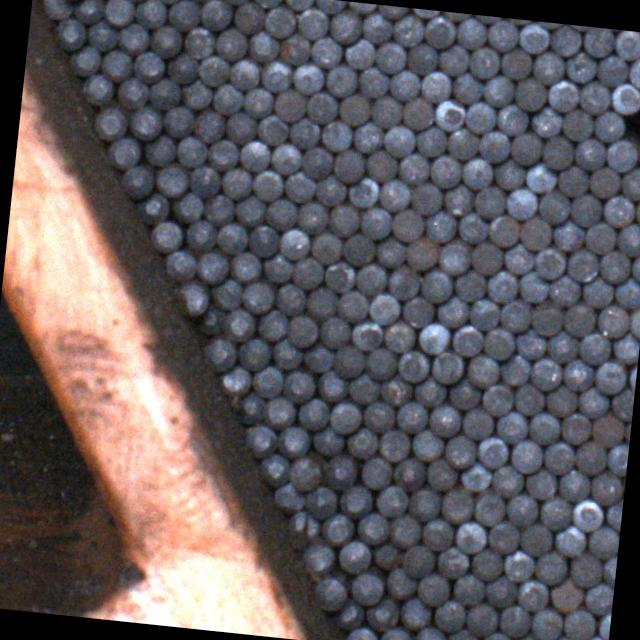tool: (173, 277, 211, 318), (437, 485, 475, 524), (191, 300, 228, 340), (153, 160, 190, 200), (279, 366, 317, 404), (384, 262, 422, 300), (162, 48, 200, 86), (558, 301, 598, 337), (430, 596, 467, 634), (384, 511, 422, 548), (471, 489, 508, 527), (575, 328, 612, 366), (413, 572, 452, 608), (238, 422, 277, 458), (225, 248, 264, 284), (145, 218, 184, 254), (567, 190, 604, 227), (396, 596, 434, 632), (482, 571, 518, 609), (546, 576, 584, 612), (420, 515, 456, 553), (322, 453, 358, 491), (200, 336, 238, 372), (592, 357, 628, 395), (382, 318, 418, 356), (192, 246, 228, 284), (52, 14, 88, 52), (330, 144, 366, 182), (568, 135, 606, 171), (346, 572, 385, 607), (307, 423, 346, 458), (462, 600, 499, 636), (434, 544, 470, 581), (353, 510, 389, 547), (528, 356, 565, 392), (134, 188, 170, 225), (198, 190, 234, 227), (92, 105, 128, 142), (271, 85, 307, 122), (294, 4, 330, 41), (390, 10, 426, 47), (558, 105, 594, 142), (310, 576, 348, 611), (315, 366, 350, 404), (244, 222, 279, 260), (327, 6, 362, 44), (363, 594, 399, 630), (568, 552, 604, 588), (302, 484, 338, 520), (490, 462, 526, 498), (508, 438, 544, 474), (426, 402, 462, 438), (589, 412, 625, 448), (446, 374, 482, 410), (478, 381, 514, 417), (544, 382, 580, 418), (576, 384, 612, 420), (528, 300, 564, 336), (352, 260, 388, 296), (418, 267, 454, 303), (308, 228, 344, 264), (564, 246, 600, 282), (550, 216, 586, 252), (118, 162, 154, 198), (472, 182, 508, 218), (363, 146, 399, 182), (428, 152, 464, 188), (160, 103, 196, 139), (382, 123, 418, 159), (476, 128, 512, 164), (323, 62, 359, 98), (212, 25, 248, 61), (422, 12, 458, 48), (536, 188, 572, 224), (526, 102, 562, 138), (513, 76, 549, 112), (588, 469, 623, 506), (375, 427, 412, 462), (267, 336, 304, 371), (299, 338, 336, 373), (410, 179, 445, 216), (444, 125, 479, 162), (530, 49, 565, 86), (233, 388, 267, 426), (328, 398, 362, 436), (350, 316, 384, 354), (496, 46, 534, 80), (560, 49, 598, 83), (399, 543, 435, 578), (406, 485, 441, 521), (504, 492, 540, 527), (288, 456, 324, 491), (495, 352, 531, 387), (512, 324, 547, 360), (542, 328, 578, 363), (466, 296, 502, 331), (484, 268, 519, 304), (436, 240, 472, 275), (469, 240, 504, 276), (598, 248, 633, 284), (231, 192, 267, 227), (218, 164, 253, 200), (178, 76, 214, 111), (146, 22, 181, 58), (246, 29, 282, 64), (306, 33, 342, 68), (538, 134, 573, 170), (591, 108, 626, 144), (451, 520, 488, 554), (516, 522, 553, 556), (389, 457, 426, 491), (521, 466, 558, 500), (214, 362, 251, 396), (377, 373, 414, 407), (207, 276, 244, 310), (65, 42, 102, 76), (547, 22, 584, 56), (497, 604, 532, 639), (274, 423, 309, 458), (572, 440, 607, 475), (333, 344, 368, 379), (364, 345, 399, 380), (395, 348, 430, 383), (334, 288, 369, 323), (213, 220, 248, 255), (293, 199, 328, 234), (106, 135, 141, 170), (313, 172, 348, 207), (269, 140, 304, 175), (299, 144, 334, 179), (396, 149, 431, 184), (450, 572, 486, 606), (300, 539, 334, 575), (501, 548, 535, 584), (551, 524, 587, 558), (336, 483, 372, 517), (372, 484, 408, 518), (442, 432, 476, 468), (474, 434, 510, 468), (262, 394, 296, 430), (494, 409, 530, 443), (526, 410, 560, 446), (346, 372, 382, 406), (465, 352, 499, 388), (220, 308, 256, 342), (286, 312, 320, 348), (415, 322, 451, 356), (304, 284, 338, 320), (366, 292, 402, 326), (400, 294, 436, 328), (434, 294, 470, 328), (451, 268, 487, 302), (515, 268, 549, 304), (546, 273, 582, 307), (580, 274, 616, 308), (276, 225, 310, 261), (340, 232, 376, 266), (404, 236, 438, 272), (358, 204, 392, 240), (390, 206, 424, 242), (518, 214, 552, 250), (78, 72, 114, 106), (250, 166, 284, 202), (378, 176, 412, 212), (140, 132, 176, 166), (204, 138, 240, 172), (236, 138, 272, 172), (126, 105, 162, 139), (193, 107, 227, 143), (224, 110, 258, 146), (349, 119, 385, 153), (144, 76, 180, 110), (98, 48, 134, 82), (196, 54, 232, 88), (356, 64, 390, 100), (448, 70, 484, 104), (404, 40, 440, 74), (262, 4, 298, 38), (600, 194, 636, 228), (576, 79, 610, 115), (516, 20, 550, 56), (560, 607, 597, 640), (328, 598, 366, 630), (515, 578, 550, 612), (368, 538, 402, 573), (533, 550, 568, 584), (320, 513, 354, 548), (485, 520, 520, 554), (586, 524, 620, 559), (257, 451, 291, 486), (296, 396, 330, 431), (558, 412, 593, 446), (429, 350, 464, 384), (318, 314, 352, 349), (450, 323, 485, 357), (240, 279, 274, 314), (273, 281, 308, 315), (290, 256, 325, 290), (422, 209, 457, 243), (487, 214, 522, 248), (346, 174, 380, 209), (442, 181, 476, 216), (460, 155, 494, 190), (337, 92, 372, 126), (401, 95, 435, 130), (227, 57, 261, 92), (482, 73, 516, 108), (373, 40, 408, 74), (555, 164, 590, 198), (581, 580, 614, 616), (270, 481, 306, 514), (410, 428, 446, 461), (410, 374, 446, 407), (340, 36, 376, 69), (491, 157, 527, 190), (586, 166, 622, 199), (382, 566, 416, 600), (336, 538, 370, 572), (538, 496, 572, 530), (358, 456, 392, 490), (556, 468, 590, 502), (394, 400, 428, 434), (562, 358, 596, 392), (254, 308, 288, 342), (481, 326, 515, 360), (498, 298, 532, 332), (162, 248, 196, 282), (322, 258, 356, 292), (374, 234, 408, 268), (533, 246, 567, 280), (262, 196, 296, 230), (326, 202, 360, 236), (454, 210, 488, 244), (187, 164, 221, 198), (256, 112, 290, 146), (114, 74, 148, 108), (369, 94, 403, 128), (432, 98, 466, 132), (258, 58, 292, 92), (388, 68, 422, 102), (418, 70, 452, 104), (84, 18, 118, 52), (180, 25, 214, 59), (436, 41, 470, 75), (232, 0, 266, 34), (508, 130, 542, 164), (604, 138, 638, 172), (529, 607, 564, 640), (541, 441, 576, 474), (460, 407, 495, 440), (512, 383, 547, 416), (596, 304, 629, 339), (468, 548, 504, 580), (286, 510, 322, 542), (568, 498, 604, 530), (456, 460, 492, 492), (361, 400, 397, 432), (250, 362, 282, 398), (164, 0, 201, 31), (344, 425, 378, 458), (182, 218, 215, 252), (501, 242, 535, 275), (287, 115, 321, 148), (210, 80, 243, 114), (240, 85, 274, 118), (462, 100, 496, 133), (486, 18, 519, 52), (546, 78, 579, 112), (607, 82, 640, 116), (595, 52, 629, 85), (235, 337, 270, 369), (584, 219, 616, 254), (506, 186, 538, 221), (306, 90, 339, 123), (455, 16, 488, 49), (424, 458, 458, 490), (320, 118, 352, 152), (495, 104, 529, 136), (132, 48, 164, 82), (290, 62, 324, 94), (522, 160, 556, 192), (610, 328, 640, 364), (170, 190, 202, 223), (283, 171, 316, 203), (415, 124, 447, 157), (116, 22, 149, 54), (278, 32, 310, 65), (467, 46, 500, 78), (359, 10, 392, 42), (581, 26, 615, 57), (198, 0, 233, 30), (174, 134, 206, 166), (262, 251, 292, 284), (132, 0, 166, 29), (608, 386, 634, 422), (614, 275, 640, 311), (614, 220, 640, 256), (611, 29, 640, 60), (101, 0, 135, 26), (70, 0, 105, 23), (604, 442, 628, 475), (617, 165, 640, 199), (604, 496, 623, 530), (40, 0, 72, 19), (343, 624, 379, 640), (410, 624, 446, 640), (624, 55, 640, 89), (375, 4, 408, 20), (443, 627, 480, 640), (379, 626, 413, 640), (311, 0, 346, 13), (479, 630, 515, 640), (283, 0, 312, 12), (630, 252, 640, 285), (250, 0, 283, 9), (542, 632, 579, 640), (632, 192, 640, 228), (510, 632, 545, 640), (216, 0, 251, 4)
void: (622, 109, 640, 146)
